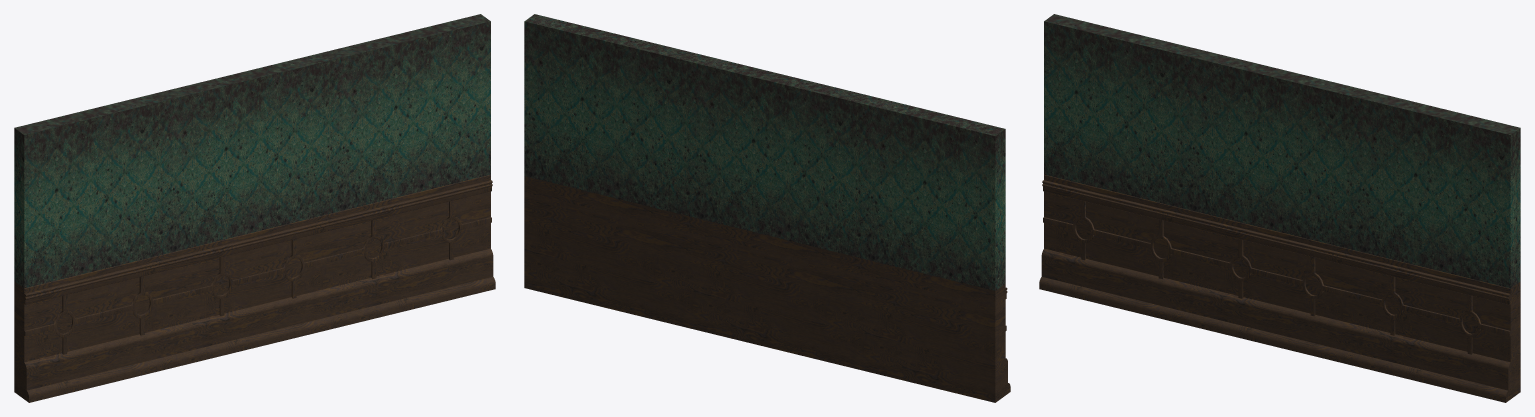
File: wall.fbx
3 renders of one model, left to right at view 1: azimuth 30°, elevation 25°; view 2: azimuth 150°, elevation 25°; view 3: azimuth 330°, elevation 25°, orthographic.
Parts seen in each view (by area): view 1: Wall.001; view 2: Wall.001; view 3: Wall.001.
Part boxes in pixels (x1=…): Wall.001: x1=14, y1=14, x2=495, y2=402; Wall.001: x1=524, y1=14, x2=1010, y2=402; Wall.001: x1=1039, y1=14, x2=1520, y2=402.
Bounding box in the file's own units: 550 × 298 × 30.5.
